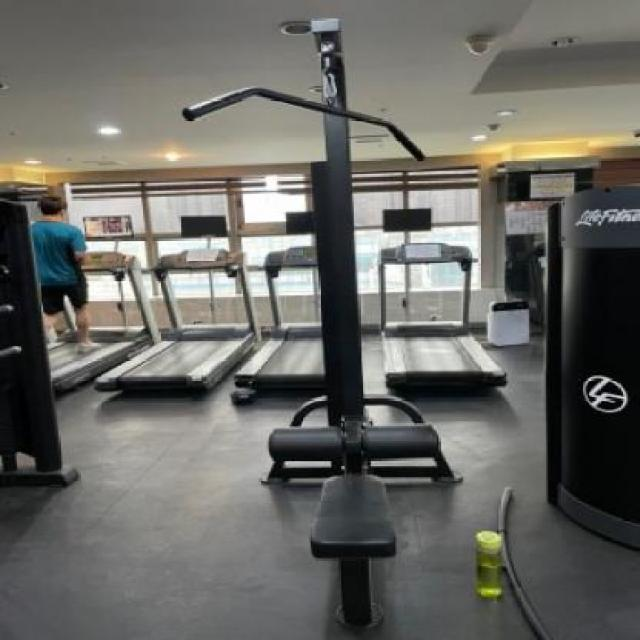Lat Pull Down: (148, 11, 522, 635)
